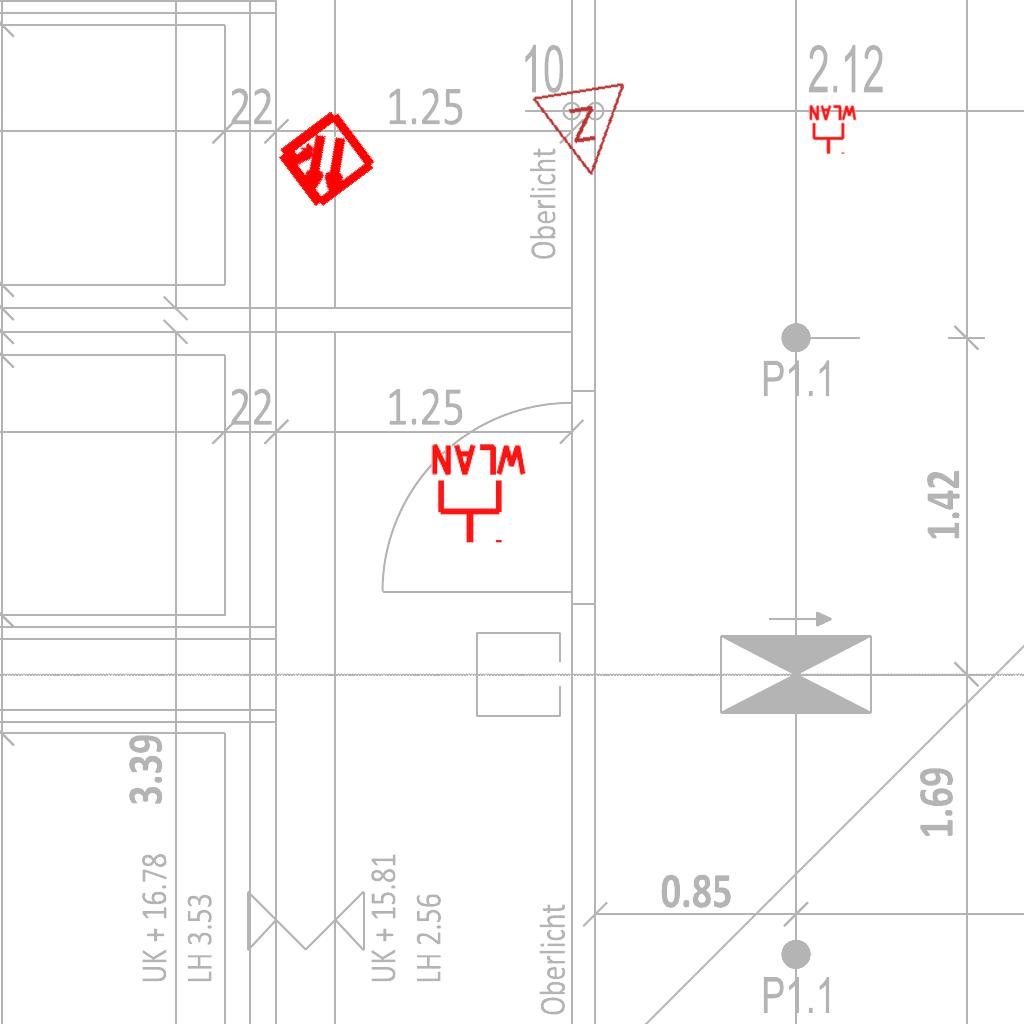OT_Multisensormelder_(Kombination_RMO_WMD): (245, 81, 404, 240)
WLAN: (427, 442, 531, 547), (807, 104, 859, 156)
Zimmersignalleuchte: (529, 74, 643, 190)
